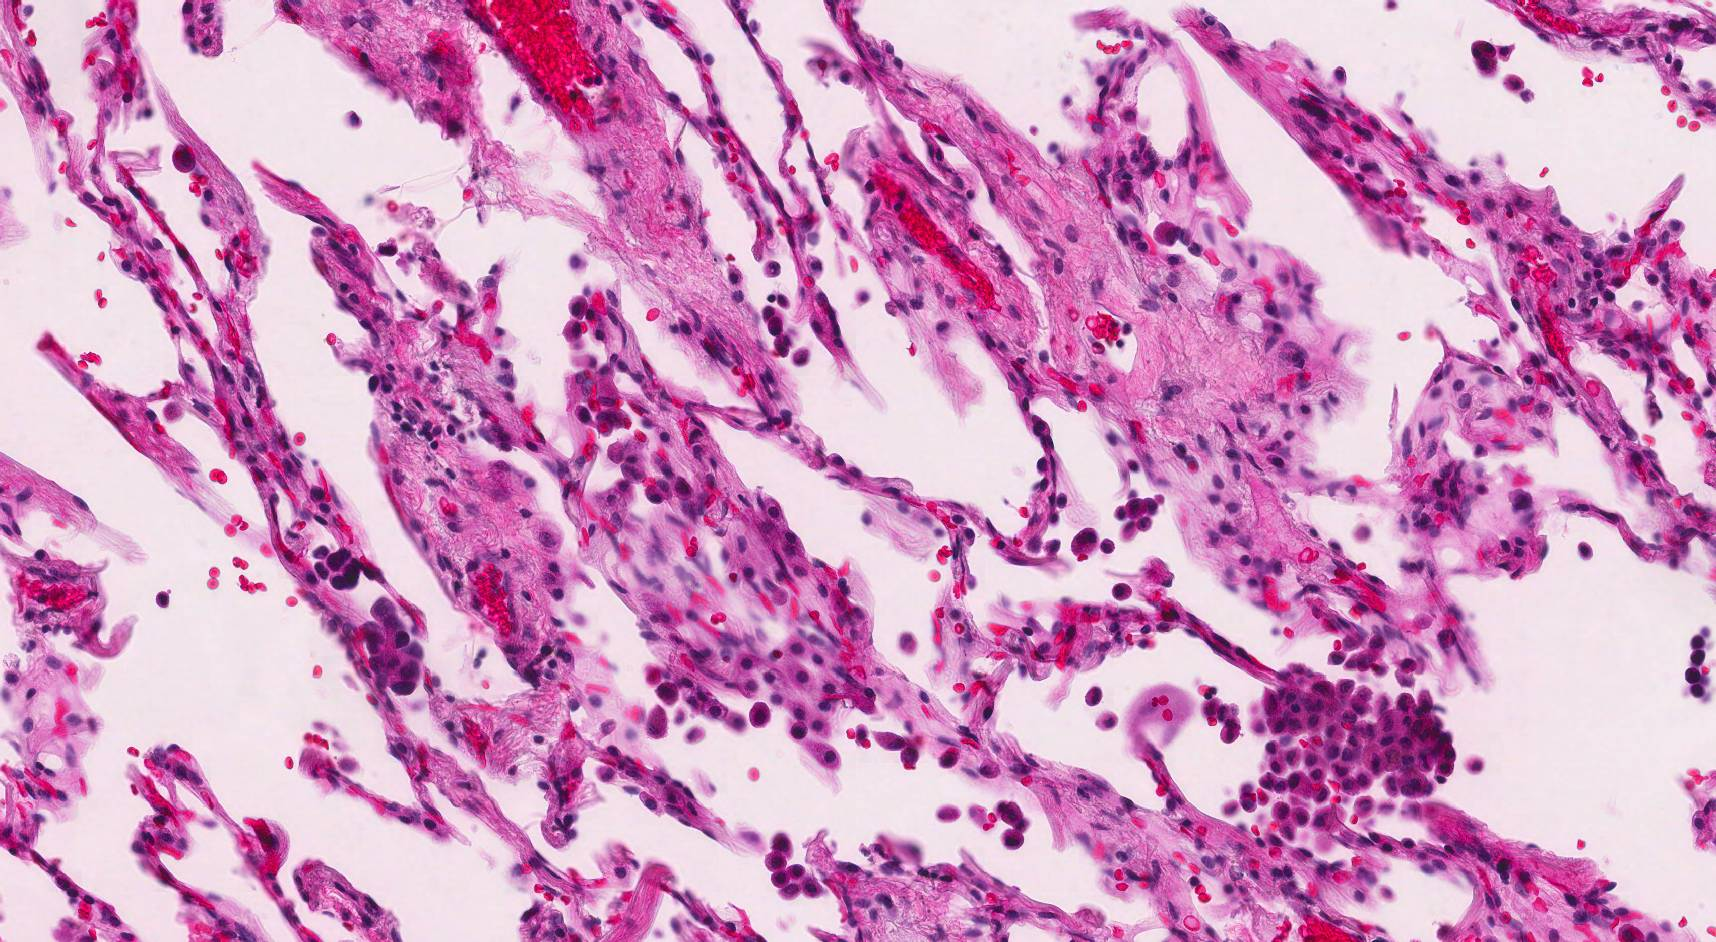stas: (360, 599, 425, 700), (312, 545, 364, 588)
